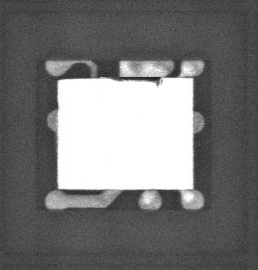DIE_BROKEN: (100, 74, 165, 86)
